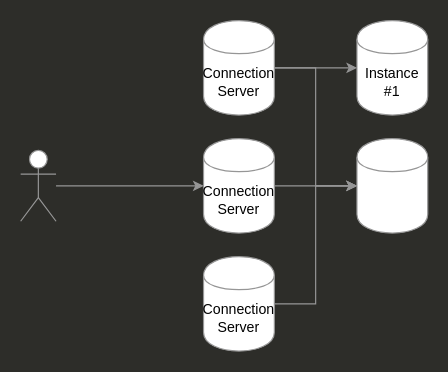
Some shapes in this 448 by 372 pixel diagram are drawn without their labels. The box of each missing label's shape, as (x1, y1, x2, y2) in pixels:
Client: (19, 149, 56, 221)
Instance #2: (356, 137, 428, 233)
